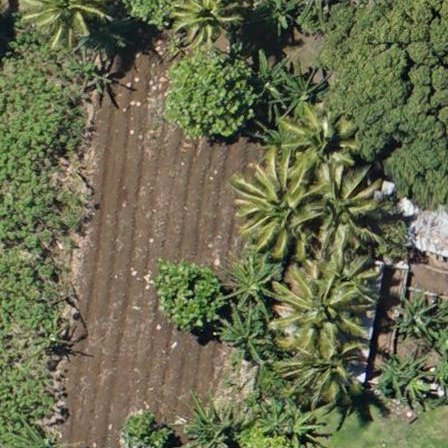palm_tree: (238, 158, 316, 241), (307, 167, 378, 247), (284, 270, 355, 345), (284, 105, 353, 177), (291, 334, 360, 399), (169, 1, 238, 44)
